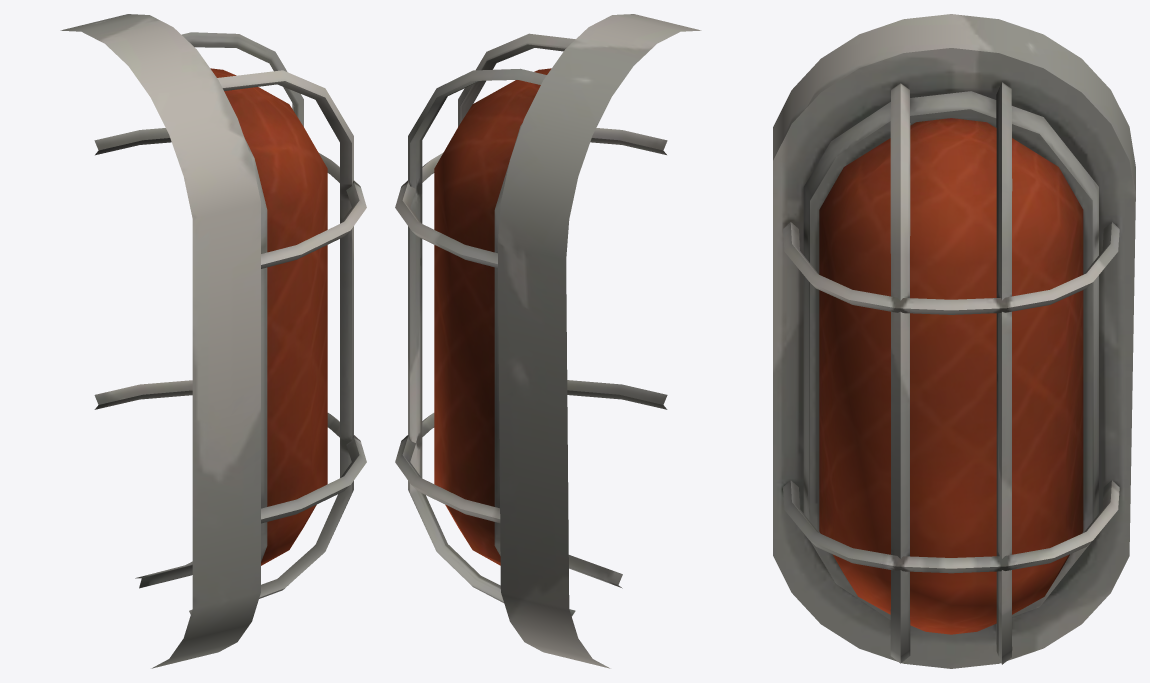
3 views of the same model, side by side, from view 1: azimuth 30°, elevation 25°; view 2: azimuth 150°, elevation 25°; view 3: azimuth 270°, elevation 25° (orthographic).
Parts seen in each view (by area): view 1: body0_model0_lod0_mesh0; view 2: body0_model0_lod0_mesh0; view 3: body0_model0_lod0_mesh0.
Boxes of the visible parts, bbox=[...] form: body0_model0_lod0_mesh0: bbox=[60, 14, 366, 668]; body0_model0_lod0_mesh0: bbox=[395, 14, 701, 668]; body0_model0_lod0_mesh0: bbox=[773, 14, 1135, 668].
Size of the model in its own units: 7.05 by 17.68 by 9.35.
Materials: 1 (1 with a texture image).
